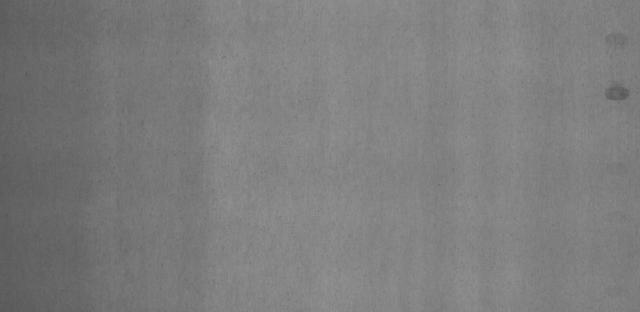oil_spot: (598, 28, 634, 52), (600, 84, 631, 109)
